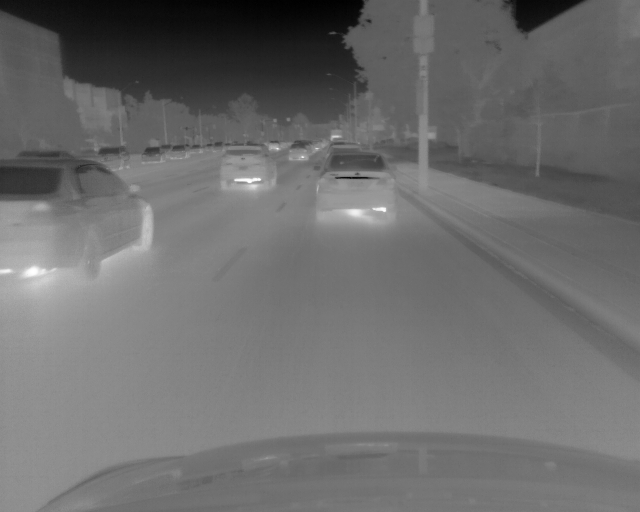car: (1, 156, 154, 280), (314, 152, 398, 223), (220, 143, 276, 193), (97, 146, 129, 174), (285, 144, 309, 164), (140, 146, 165, 165), (328, 142, 364, 153), (168, 145, 186, 163), (190, 143, 202, 154), (309, 142, 320, 154)
